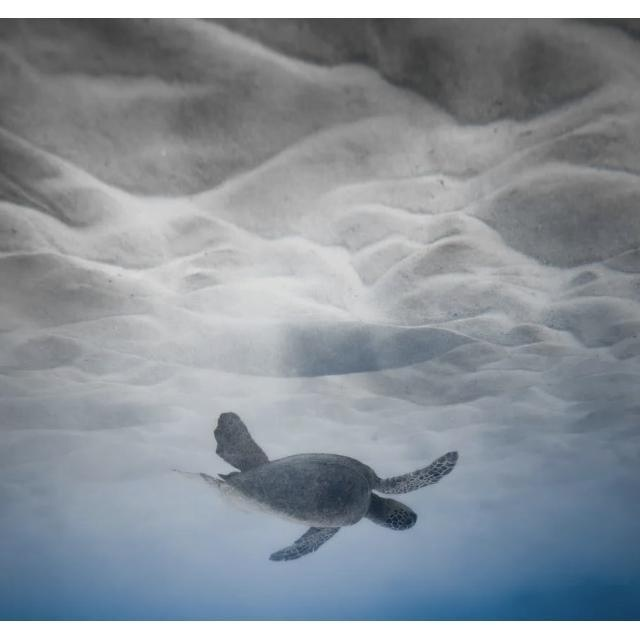turtle: (171, 411, 461, 564)
